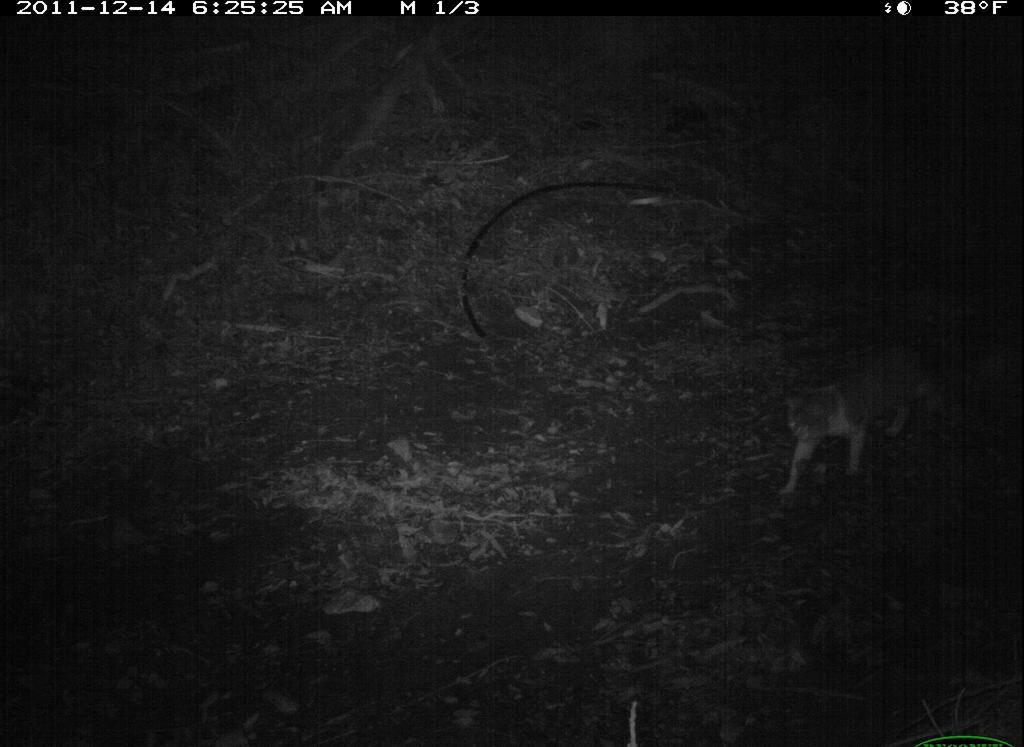cat: (761, 336, 952, 505)
